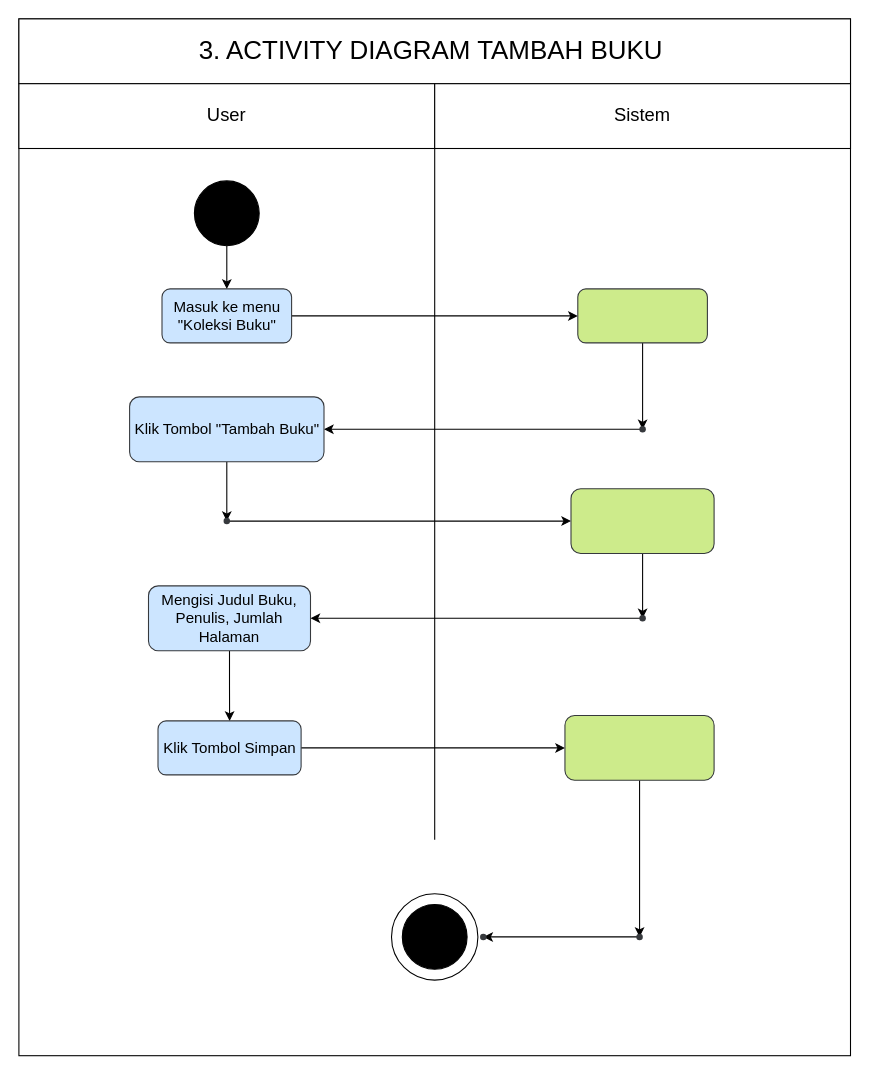
Image size: 869x1075. Some labels were removed from this diagram. The box of each missing label's shape, as (x1, y1, x2, y2) in pixels:
Data buku disimpan ke Database: (564, 714, 714, 780)
Menampilkan Daftar Buku: (577, 288, 707, 343)
Menampilkan Form Tambah Buku: (570, 488, 714, 554)
